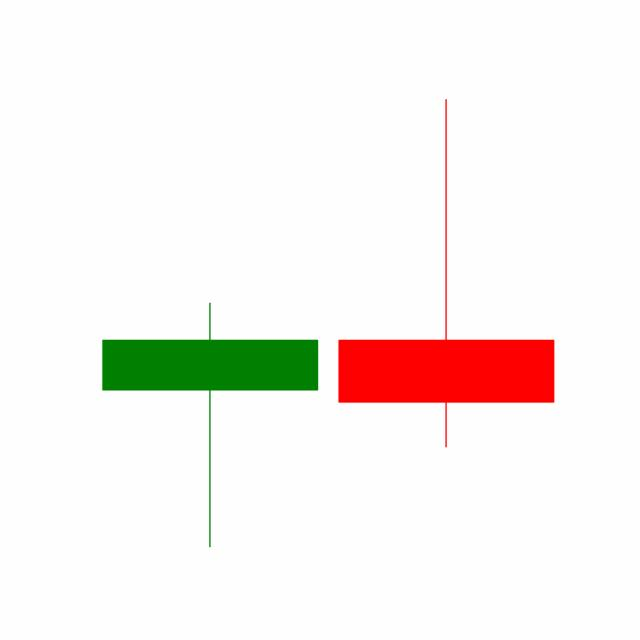Gravestone Doji: (327, 95, 565, 451)
